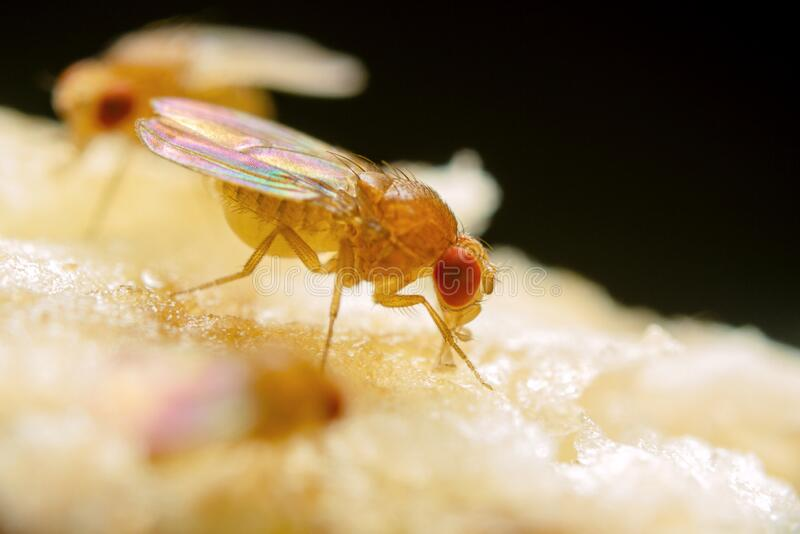Fruit fly: (137, 88, 495, 335)
